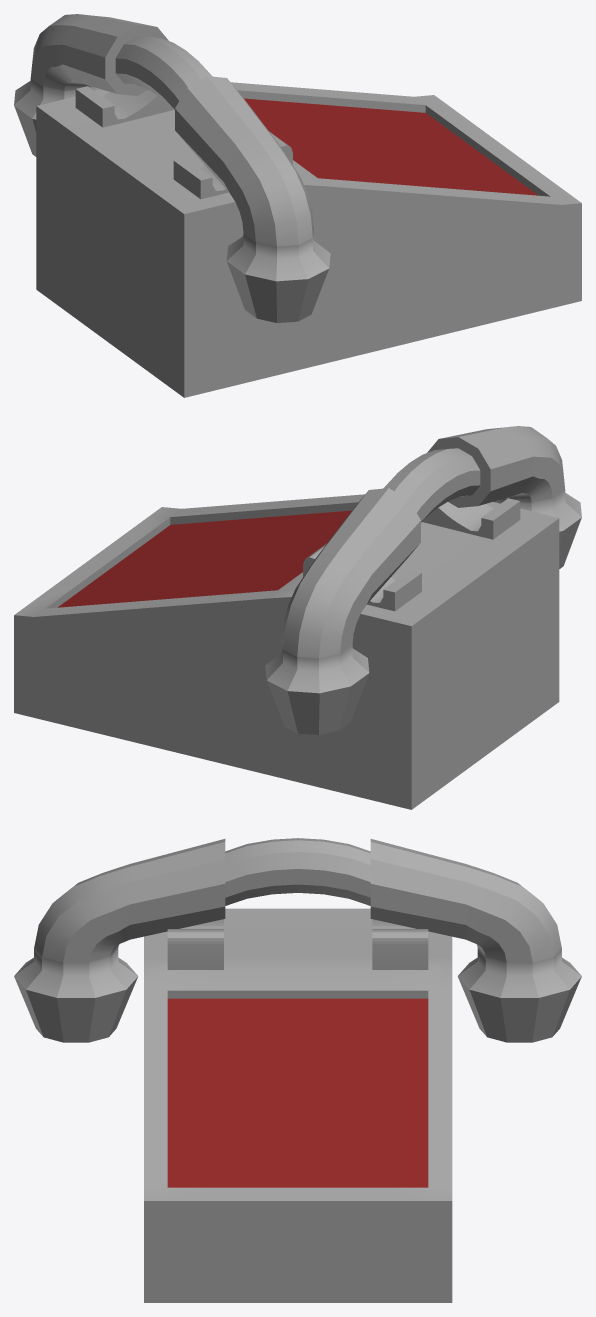
The model's file is Telephone.fbx.
3 renders of one model, top to bottom at view 1: azimuth 30°, elevation 25°; view 2: azimuth 150°, elevation 25°; view 3: azimuth 270°, elevation 25°, orthographic. The views are drawn at different scales.
Parts seen in each view (by area): view 1: pasted__Telephone_1; view 2: pasted__Telephone_1; view 3: pasted__Telephone_1.
Part boxes in pixels (<box>): pasted__Telephone_1: <box>14,14,581,397</box>; pasted__Telephone_1: <box>14,426,581,809</box>; pasted__Telephone_1: <box>14,838,581,1302</box>.
Size of the model in its own units: 26.56 by 17.85 by 31.49.
